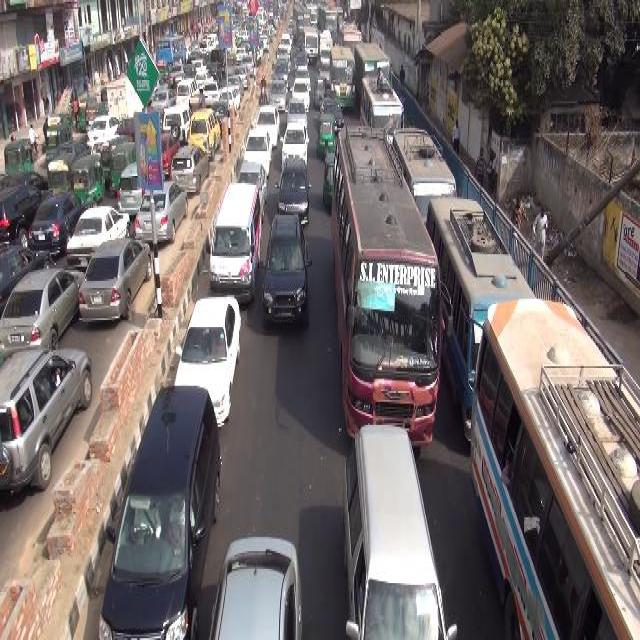ambulance: (210, 180, 262, 294)
bus: (469, 298, 639, 636), (330, 123, 440, 446), (426, 196, 536, 444), (392, 122, 460, 218), (358, 70, 407, 136), (328, 41, 358, 115), (354, 38, 391, 97), (158, 31, 186, 65), (336, 16, 362, 48), (320, 0, 339, 34), (292, 0, 312, 32), (302, 24, 318, 61)
car: (208, 532, 310, 638), (173, 289, 245, 429), (0, 262, 86, 351), (76, 237, 150, 326), (262, 209, 310, 324), (66, 202, 134, 274), (132, 176, 188, 244), (26, 186, 86, 248), (1, 242, 51, 308), (275, 153, 311, 231), (172, 137, 208, 201), (148, 124, 178, 185), (279, 117, 311, 171), (236, 159, 268, 211), (240, 124, 270, 174), (118, 159, 144, 211), (88, 110, 120, 146), (164, 99, 192, 136), (1, 166, 44, 190), (259, 103, 279, 146), (286, 97, 308, 134), (152, 85, 174, 114), (292, 72, 312, 102), (269, 78, 287, 107), (219, 85, 239, 111), (233, 62, 247, 92), (203, 78, 219, 103), (271, 56, 289, 76), (237, 44, 249, 62), (278, 30, 288, 46), (260, 31, 270, 47)
motorbike: (258, 80, 266, 98)
suv: (1, 342, 93, 504), (0, 188, 46, 242)
three wheelers -CNG-: (107, 142, 139, 196), (43, 150, 77, 196), (72, 150, 104, 198), (320, 142, 338, 210), (3, 134, 35, 168), (316, 111, 334, 163), (76, 95, 100, 133), (44, 125, 70, 148), (40, 110, 72, 126), (313, 71, 327, 107)
van: (98, 372, 222, 638), (339, 422, 453, 638), (187, 100, 221, 162), (176, 72, 198, 99), (198, 33, 212, 49)
